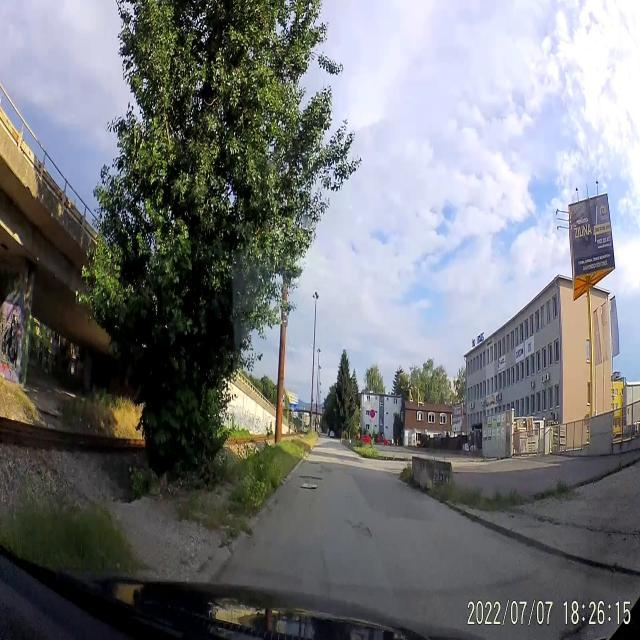Pothole: (347, 513, 375, 541), (298, 471, 322, 485), (298, 481, 318, 491), (305, 460, 320, 466)
